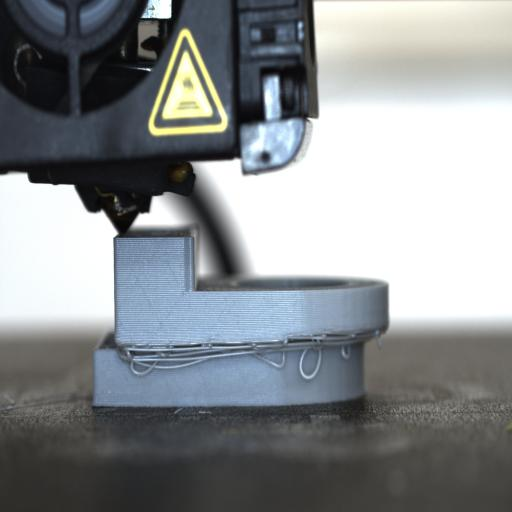layer_shift: (94, 327, 384, 359)
